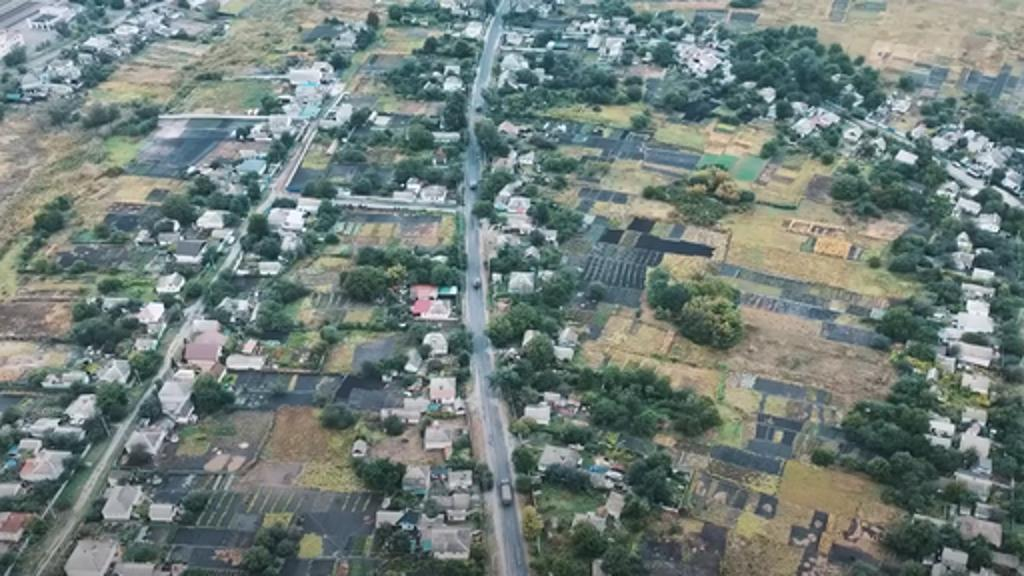CAR: (464, 176, 480, 192), (470, 272, 484, 290), (472, 100, 484, 114)
TRUCK: (496, 476, 518, 508)
